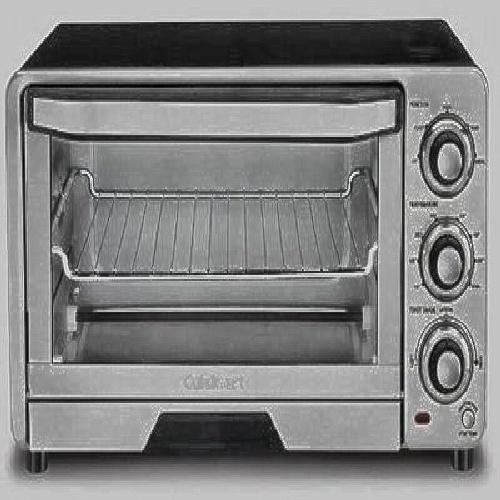toaster: (28, 37, 465, 457)
